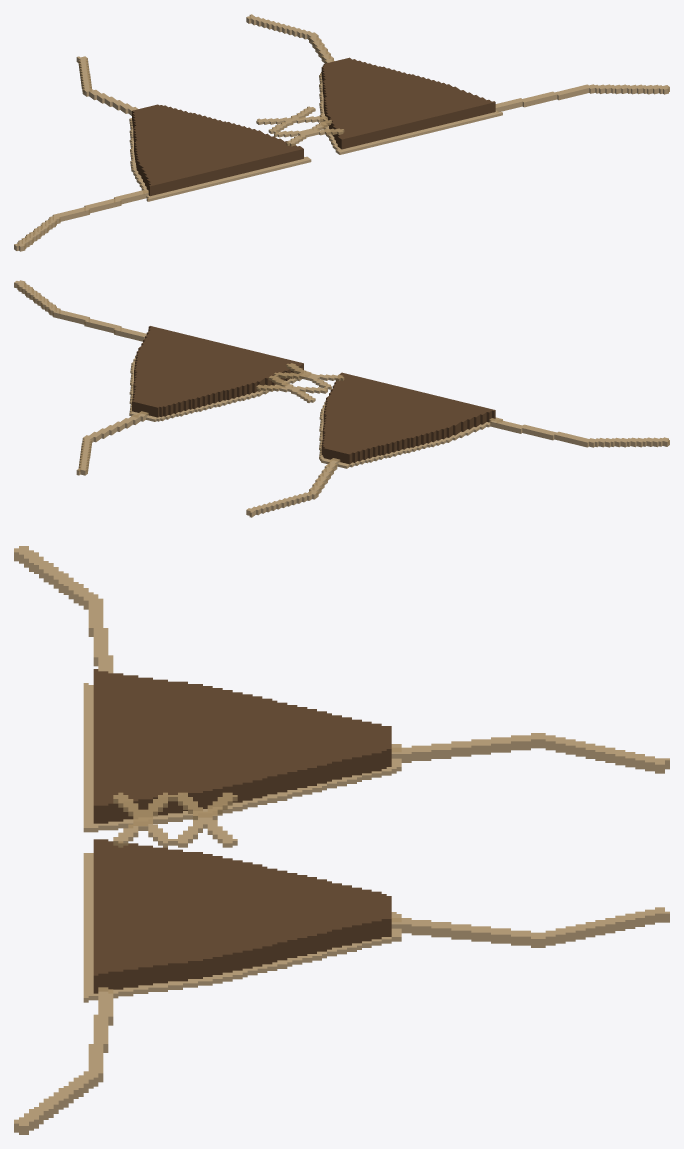
File: bikini_top_fur.glb
3 renders of one model, top to bottom at view 1: azimuth 30°, elevation 25°; view 2: azimuth 150°, elevation 25°; view 3: azimuth 270°, elevation 25°, orthographic. The views are drawn at different scales.
Visible parts, largest first — view 1: bikini_top_fur:compound; view 2: bikini_top_fur:compound; view 3: bikini_top_fur:compound.
Part boxes in pixels (box(x1,y1,x2,y2)): bikini_top_fur:compound: box(14, 14, 669, 251); bikini_top_fur:compound: box(14, 280, 669, 517); bikini_top_fur:compound: box(14, 546, 669, 1134).
Bounding box in the file's own units: 0.552 × 0.012 × 0.264.
